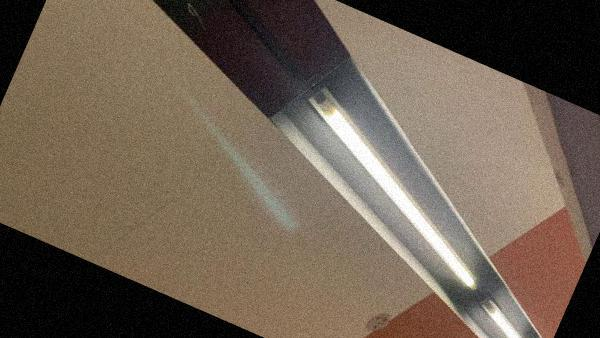light_on: (248, 66, 532, 298), (469, 294, 539, 338)
